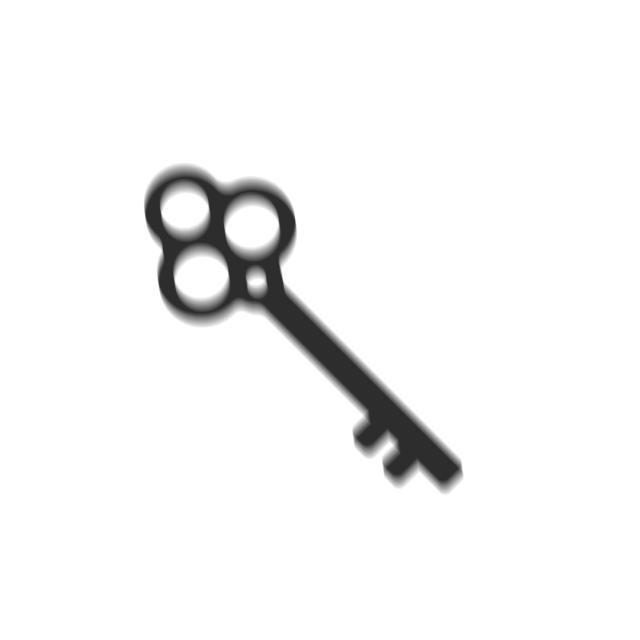key: (135, 157, 479, 506)
